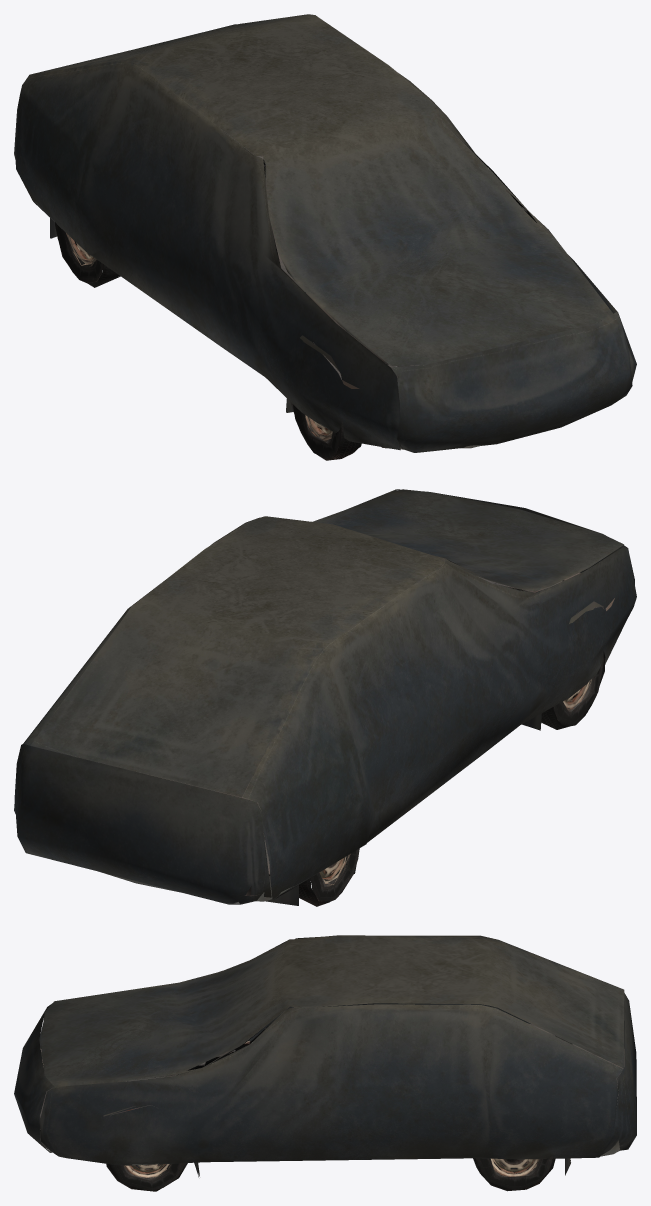
File: covered_car_lod0.gltf
3 views of the same model, one above another, from view 1: azimuth 30°, elevation 25°; view 2: azimuth 150°, elevation 25°; view 3: azimuth 270°, elevation 25° (orthographic). The views are drawn at different scales.
Parts seen in each view (by area): view 1: covered_car_lod0; view 2: covered_car_lod0; view 3: covered_car_lod0.
Boxes of the visible parts, <box> form: covered_car_lod0: <box>14,14,636,460</box>; covered_car_lod0: <box>14,489,636,906</box>; covered_car_lod0: <box>14,935,636,1191</box>.
Bounding box in the file's own units: 1.8 × 1.42 × 4.38.
Materials: 2 (2 with a texture image).
